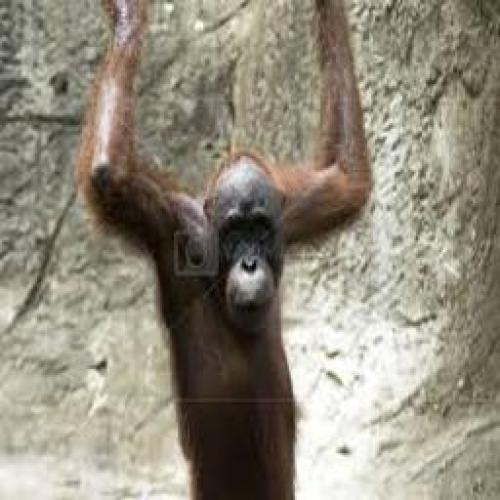orangutan-endangered: (82, 4, 371, 498)
